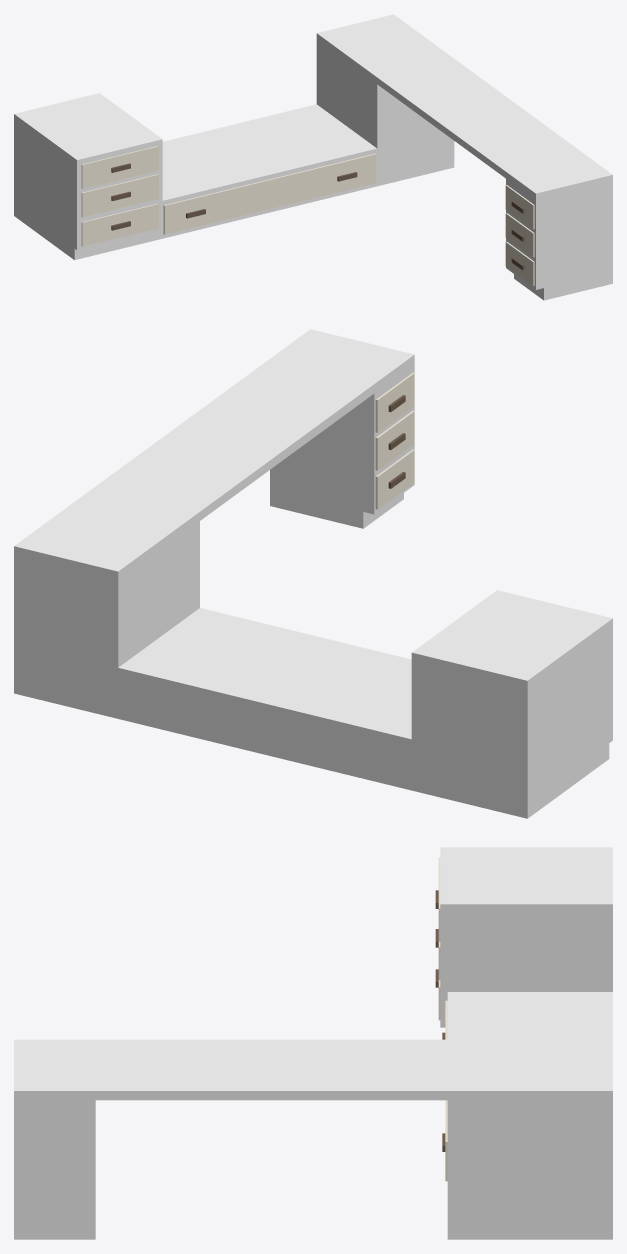
File: Bedroom3_Construction.fbx
The picture shows the model from 3 angles, top to bottom: view 1: azimuth 30°, elevation 25°; view 2: azimuth 150°, elevation 25°; view 3: azimuth 270°, elevation 25°; orthographic projection. The views are drawn at different scales.
Visible parts, largest first — view 1: Bedroom3_Construction; view 2: Bedroom3_Construction; view 3: Bedroom3_Construction.
Boxes of the visible parts, x1,y1,x2,y2 form: Bedroom3_Construction: [14, 14, 612, 300]; Bedroom3_Construction: [14, 329, 612, 818]; Bedroom3_Construction: [14, 847, 612, 1239].
Size of the model in its own units: 489 by 489 by 134.
